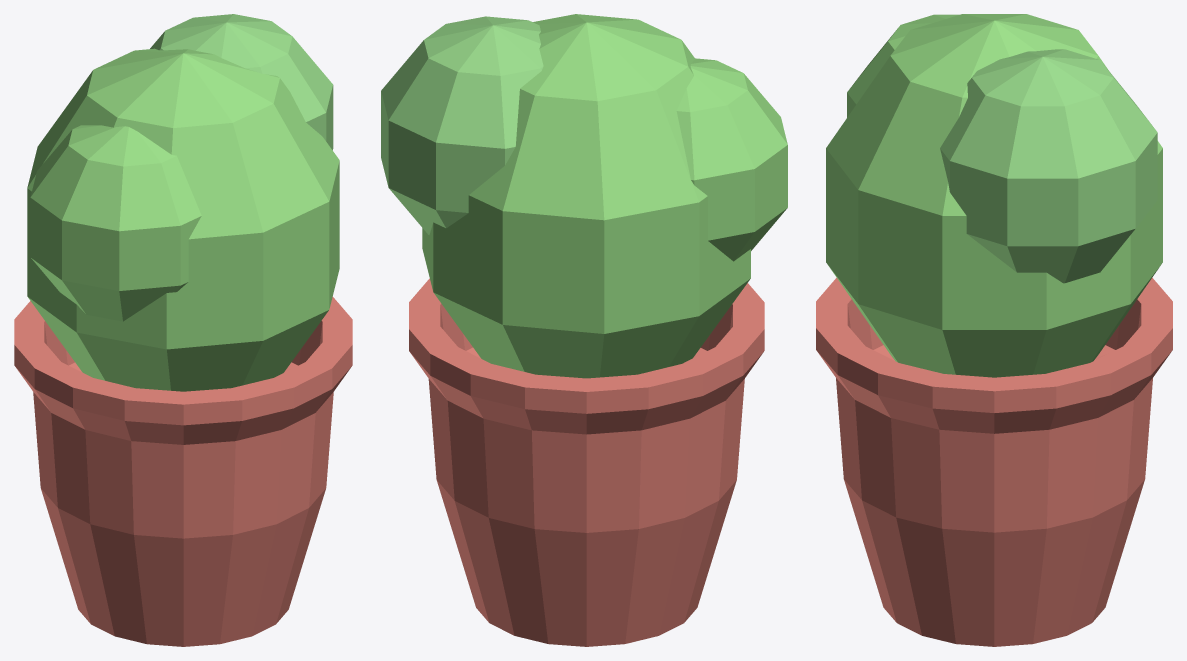
The model's file is SM_Prop_PottedPlant.fbx.
The picture shows the model from 3 angles, left to right: view 1: azimuth 30°, elevation 25°; view 2: azimuth 150°, elevation 25°; view 3: azimuth 270°, elevation 25°; orthographic projection. The views are drawn at different scales.
Parts seen in each view (by area): view 1: Pot, LeafA, LeafC, LeafB; view 2: Pot, LeafA, LeafB, LeafC; view 3: Pot, LeafA, LeafB, LeafC.
Part boxes in pixels (left/top/right/bottom): Pot: left=14, top=296, right=352, bottom=646; LeafA: left=27, top=48, right=339, bottom=391; LeafC: left=30, top=125, right=201, bottom=321; LeafB: left=150, top=14, right=333, bottom=150; Pot: left=409, top=278, right=764, bottom=646; LeafA: left=422, top=14, right=750, bottom=378; LeafB: left=381, top=16, right=543, bottom=234; LeafC: left=676, top=58, right=787, bottom=261; Pot: left=816, top=277, right=1172, bottom=646; LeafA: left=826, top=14, right=1162, bottom=377; LeafB: left=940, top=49, right=1157, bottom=283; LeafC: left=847, top=14, right=959, bottom=117.
Bounding box in the file's own units: 0.4723 × 0.793 × 0.4432.
